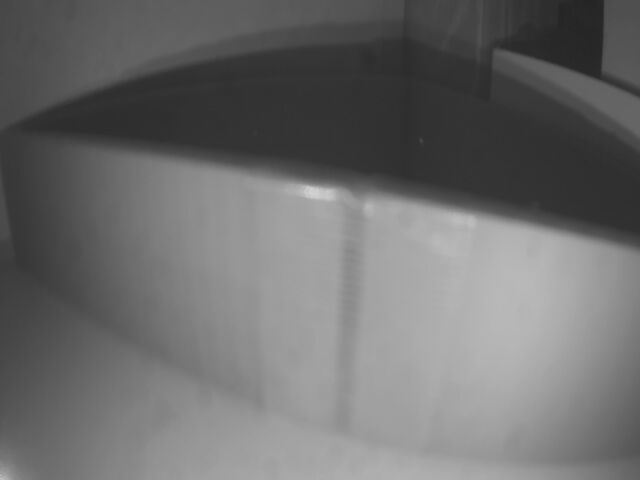Point: (10, 132, 640, 459)
